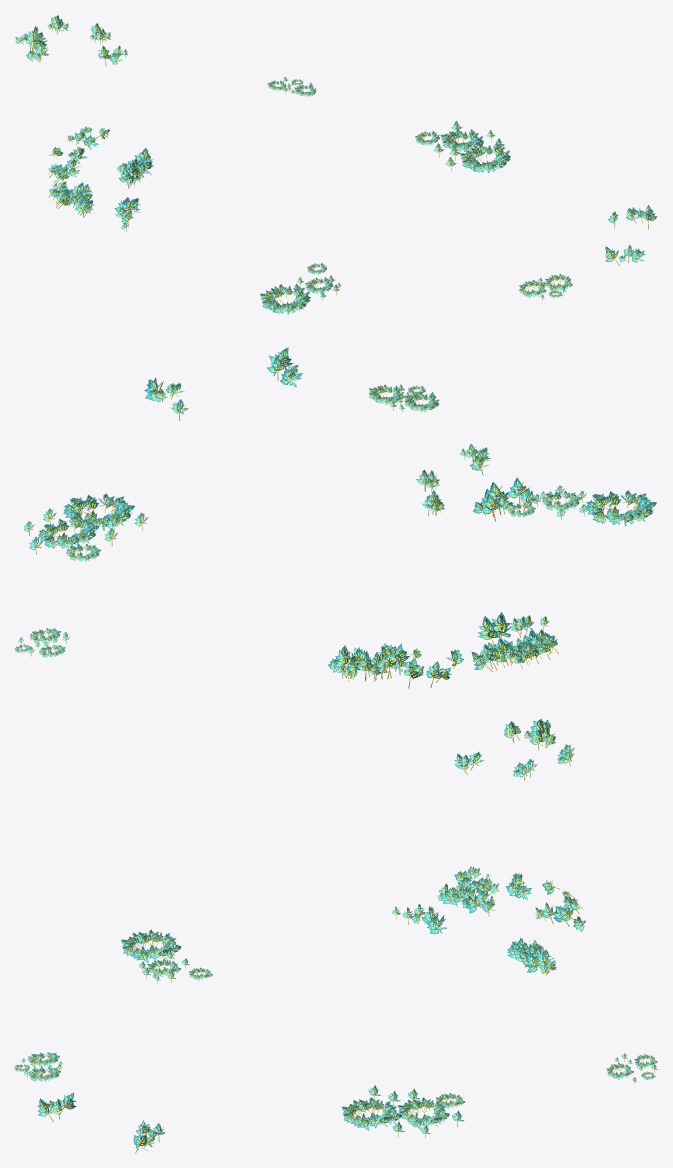
The model's file is glowingplantsallinone.glb.
3 views of the same model, one above another, from view 1: azimuth 30°, elevation 25°; view 2: azimuth 150°, elevation 25°; view 3: azimuth 270°, elevation 25° (orthographic). The views are drawn at different scales.
Visible parts, largest first — view 1: GlowingPlants; view 2: GlowingPlants; view 3: GlowingPlants.
Part boxes in pixels (bbox=[...]): GlowingPlants: bbox=[15, 15, 657, 314]; GlowingPlants: bbox=[14, 347, 656, 688]; GlowingPlants: bbox=[14, 718, 657, 1153].
Size of the model in its own units: 88.74 by 32.71 by 95.19.
Materials: 1 (1 with a texture image).
